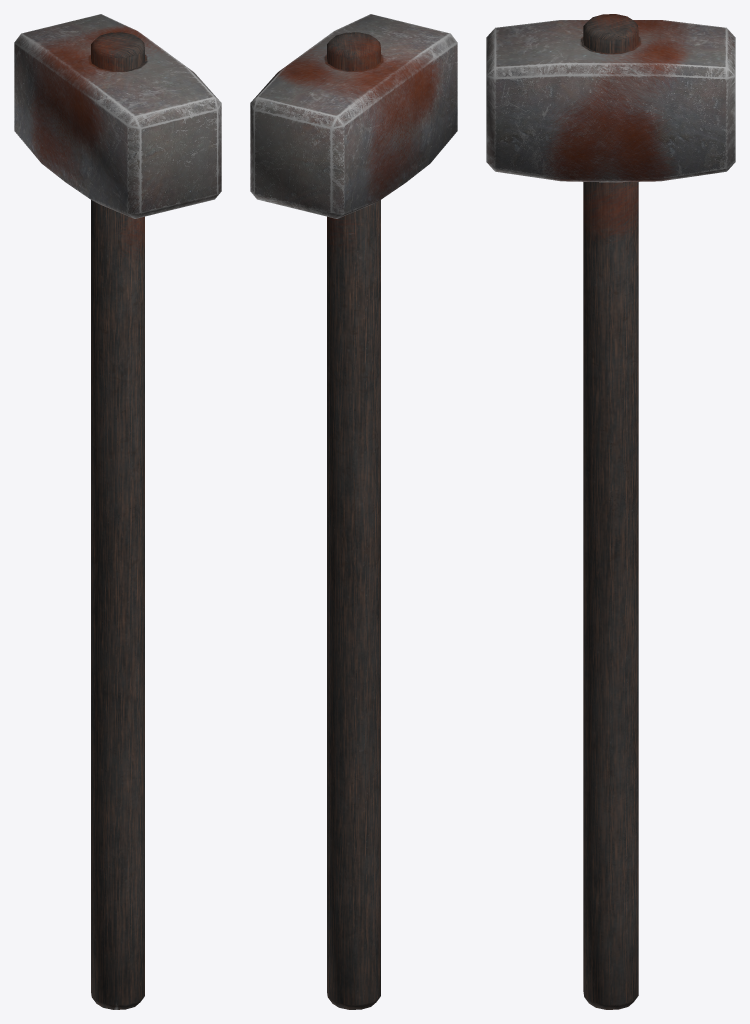
File: Hammer.fbx
3 renders of one model, left to right at view 1: azimuth 30°, elevation 25°; view 2: azimuth 150°, elevation 25°; view 3: azimuth 270°, elevation 25°, orthographic.
Parts seen in each view (by area): view 1: Hammer; view 2: Hammer; view 3: Hammer.
Part boxes in pixels (x1=…): Hammer: x1=14, y1=14, x2=221, y2=1009; Hammer: x1=250, y1=14, x2=457, y2=1009; Hammer: x1=486, y1=14, x2=735, y2=1009.
Size of the model in its own units: 5.74 by 50.51 by 11.7.
